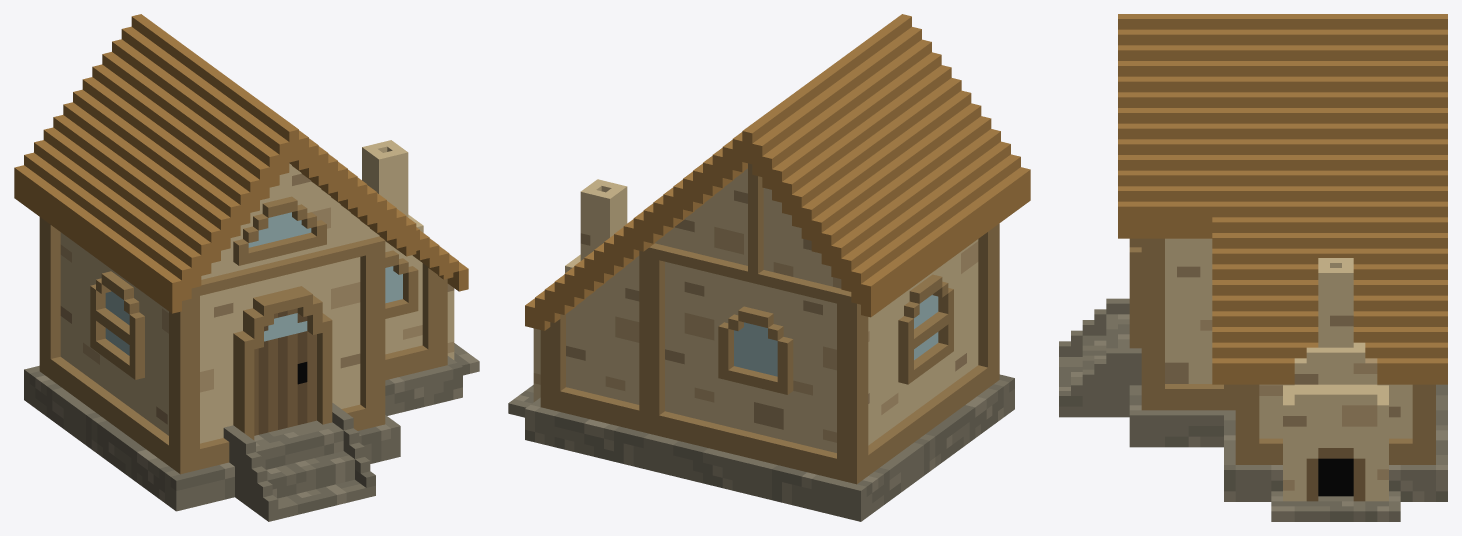
Rendered from house1.vox.obj.
3 renders of one model, left to right at view 1: azimuth 30°, elevation 25°; view 2: azimuth 150°, elevation 25°; view 3: azimuth 270°, elevation 25°, orthographic. The views are drawn at different scales.
Bounding box in the file's own units: 3.9 × 3.5 × 3.3.
Materials: 1 (1 with a texture image).
